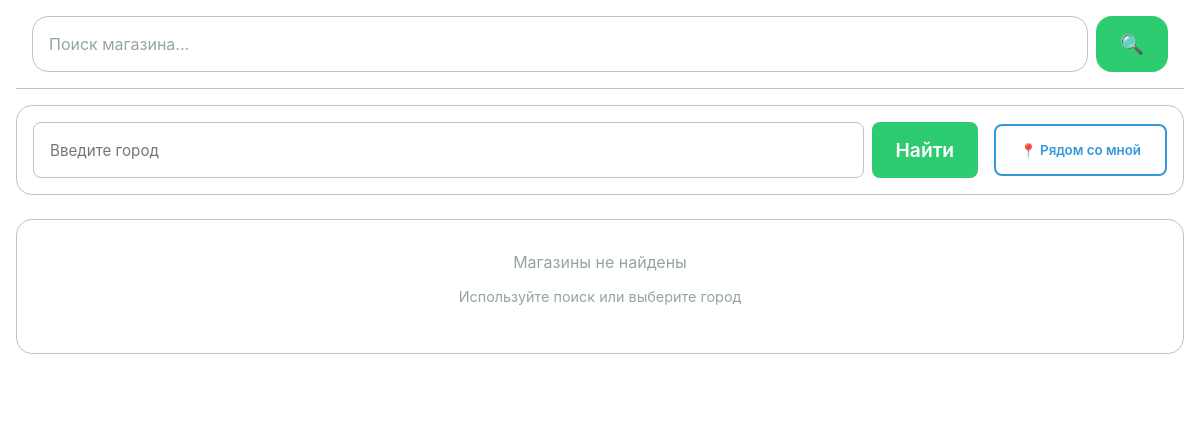
ShopsPage › shows an error message when the nearby fetch fails
This screenshot has width=1201, height=441.
Click the button "📍 Рядом со мной". click: coordinates (1081, 150)
box: x1=994 y1=124 x2=1167 y2=176
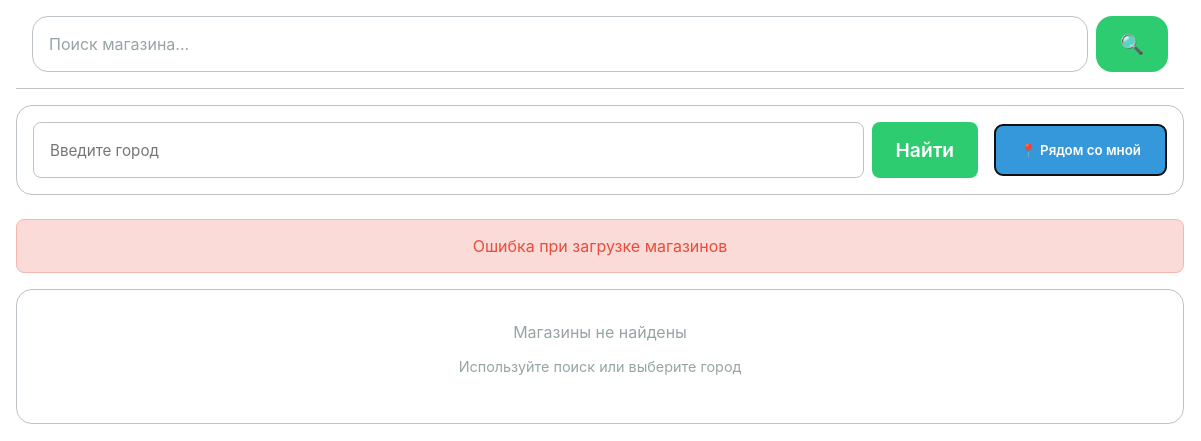
Result: the text "Ошибка при загрузке магазинов" is shown at x1=16 y1=219 x2=1184 y2=273
